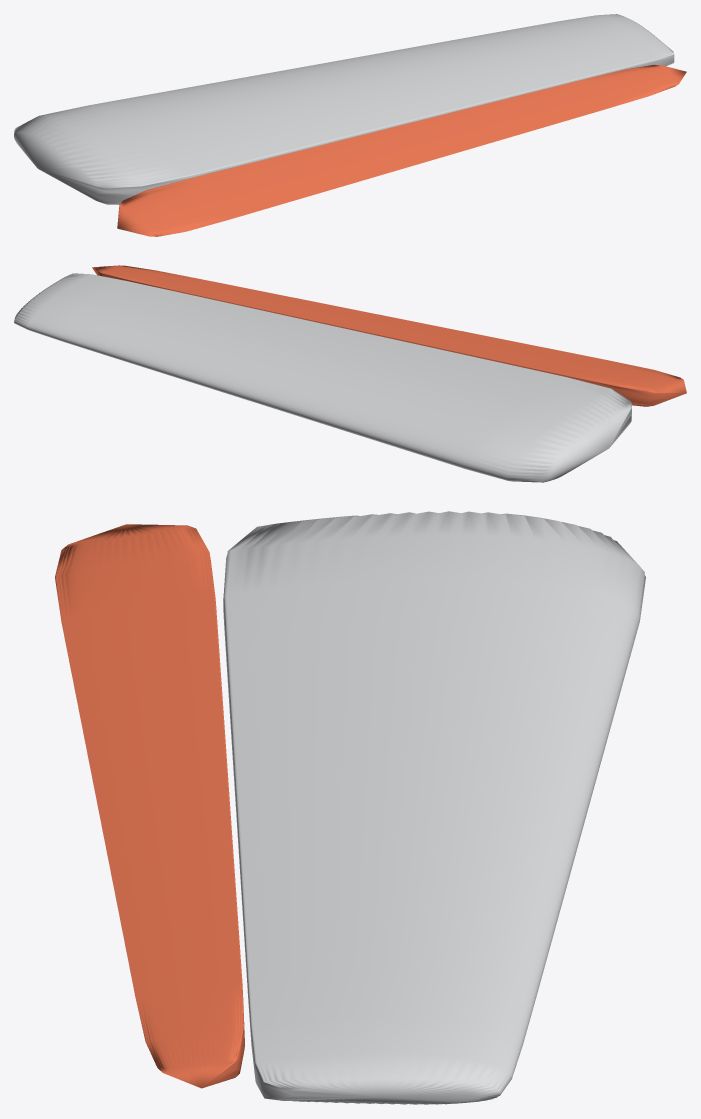
The model's file is wing.glb.
3 views of the same model, one above another, from view 1: azimuth 30°, elevation 25°; view 2: azimuth 150°, elevation 25°; view 3: azimuth 270°, elevation 25° (orthographic). The views are drawn at different scales.
Parts seen in each view (by area): view 1: WingMain, WingControl; view 2: WingMain, WingControl; view 3: WingMain, WingControl.
Part boxes in pixels (x1,y1,x2,y2): WingMain: (14,14,674,204); WingControl: (117,64,686,236); WingMain: (14,273,631,482); WingControl: (92,265,686,406); WingMain: (223,511,645,1104); WingControl: (55,524,244,1088).
Size of the model in its own units: 3.03 by 0.1587 by 1.33.
